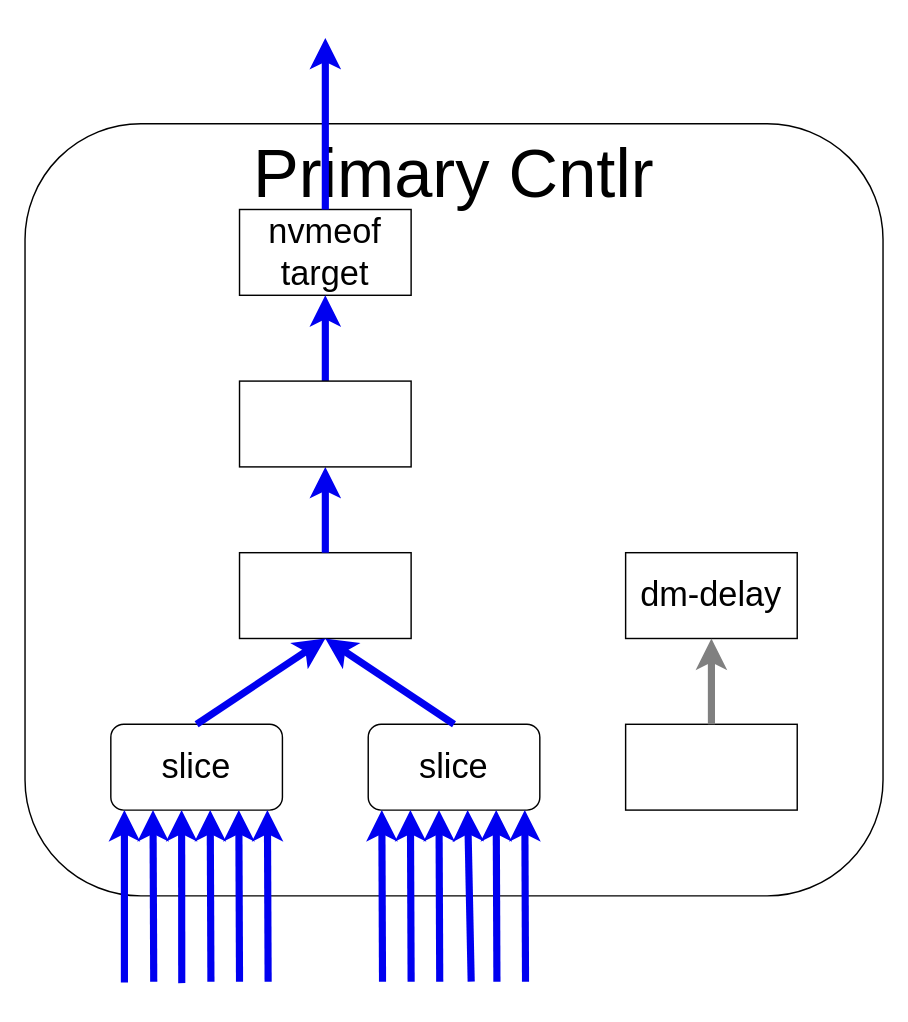
This 908x1022 diagram has some shape labels left out. The shapes that lost their labels are listed below. From the top down, each one's centre as x and y in pixels, then its label:
the point at 324,423: dm-linear
the point at 324,594: raid0
the point at 710,766: dm-error
